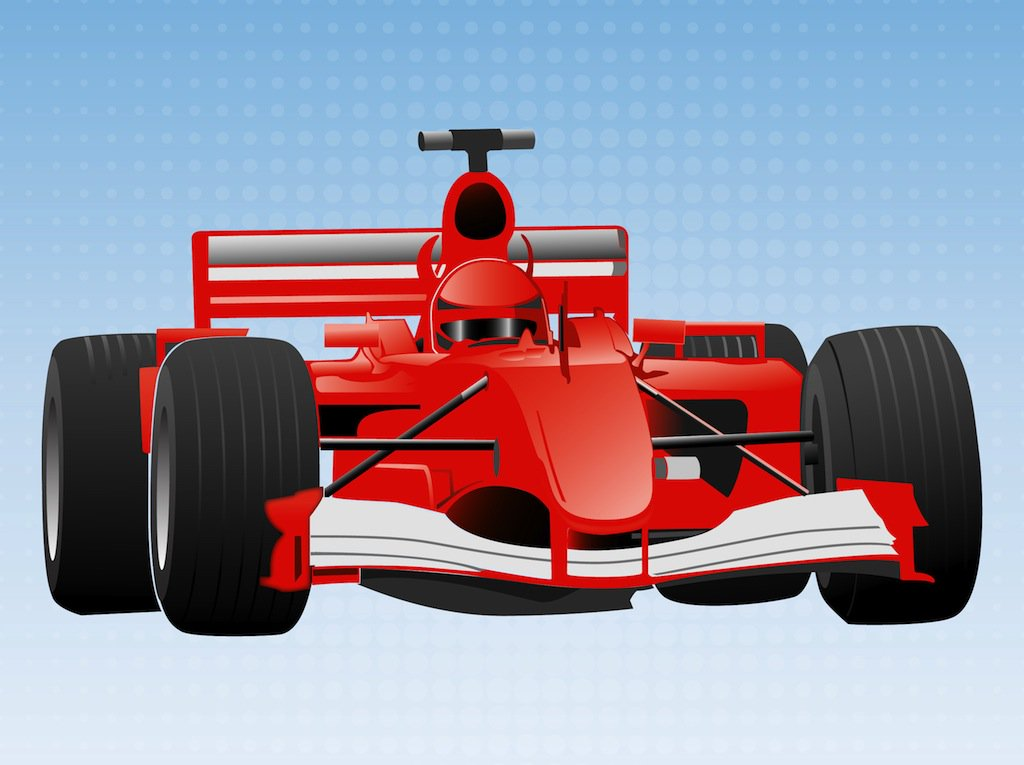f1_car: (22, 116, 1002, 669)
helmet: (421, 254, 562, 362)
